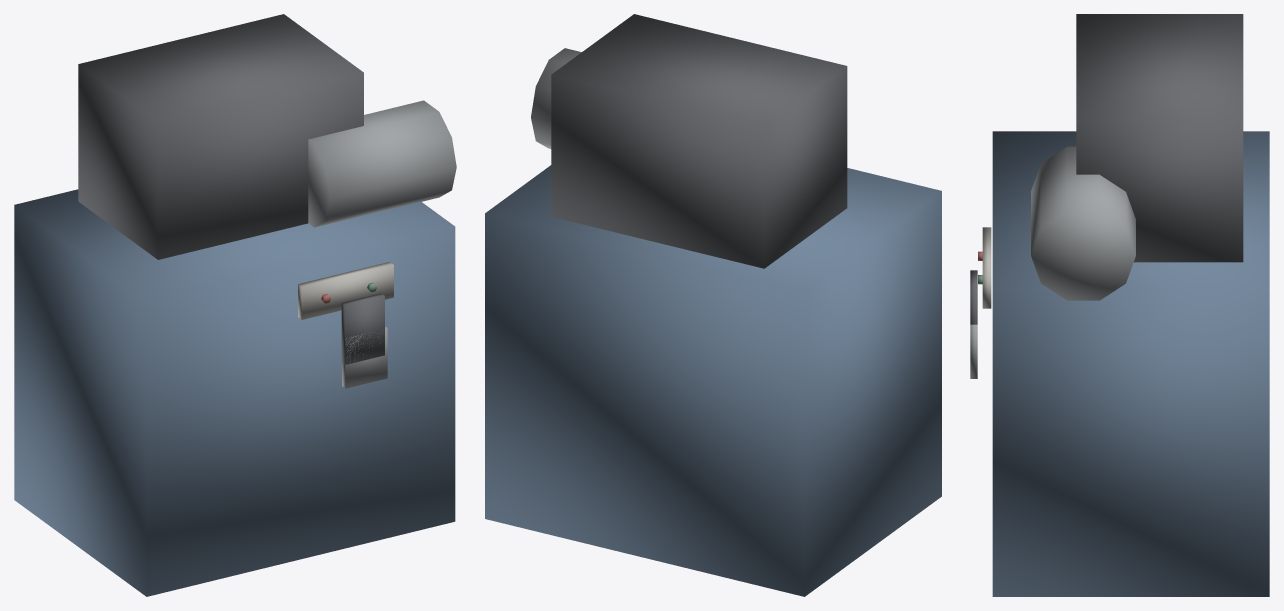
File: library_cart__weathered.glb
The picture shows the model from 3 angles, left to right: view 1: azimuth 30°, elevation 25°; view 2: azimuth 150°, elevation 25°; view 3: azimuth 270°, elevation 25°; orthographic projection. The views are drawn at different scales.
Visible parts, largest first — view 1: world; view 2: world; view 3: world.
Boxes of the visible parts, x1=… form: world: x1=14, y1=14, x2=456, y2=596; world: x1=485, y1=14, x2=941, y2=596; world: x1=970, y1=14, x2=1269, y2=596.
Size of the model in its own units: 0.83 by 1.04 by 0.6272.
